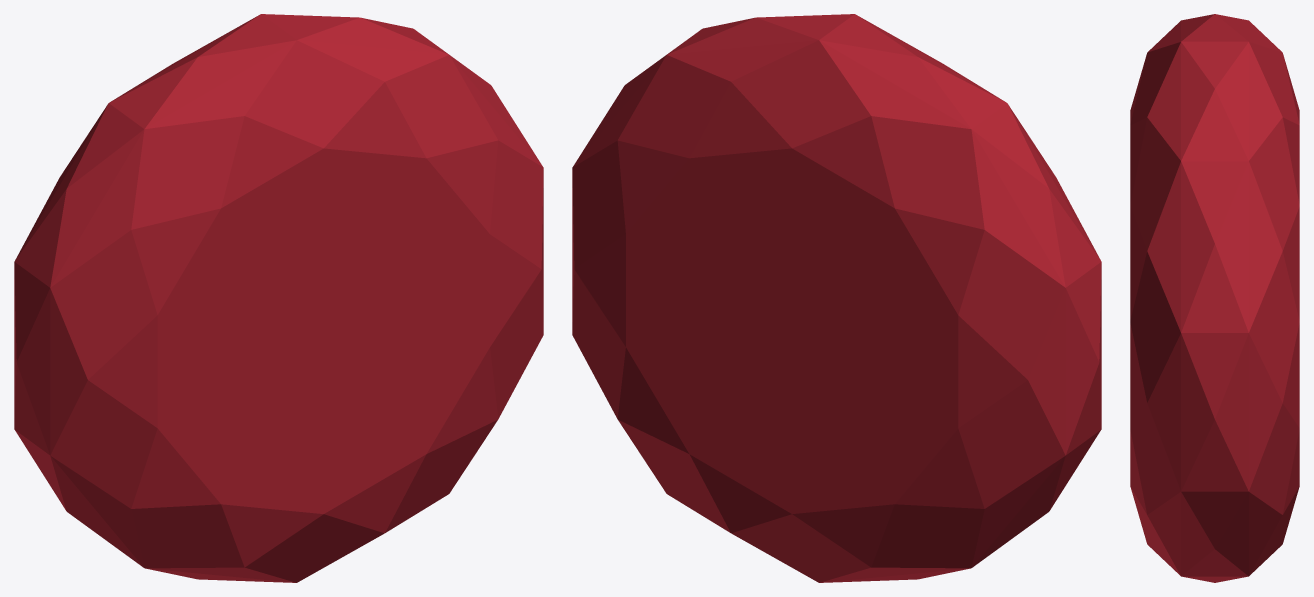
File: jewel3_Ruby.fbx
3 renders of one model, left to right at view 1: azimuth 30°, elevation 25°; view 2: azimuth 150°, elevation 25°; view 3: azimuth 270°, elevation 25°, orthographic. The views are drawn at different scales.
Parts seen in each view (by area): view 1: jewel3_Ruby; view 2: jewel3_Ruby; view 3: jewel3_Ruby.
Part boxes in pixels (x1,y1,x2,y2): jewel3_Ruby: (14,14,543,582); jewel3_Ruby: (572,14,1101,582); jewel3_Ruby: (1130,14,1299,582).
Bounding box in the file's own units: 0.6235 × 0.6161 × 0.1845.
